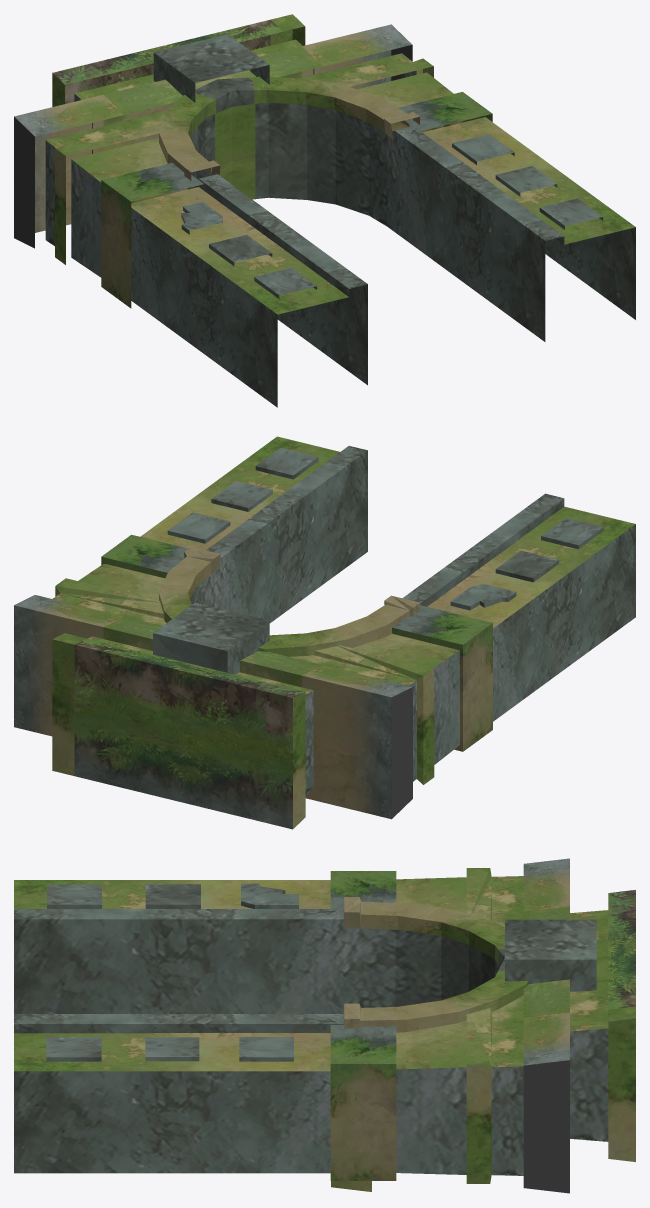
The model's file is shitouyiji_01.FBX.
The picture shows the model from 3 angles, top to bottom: view 1: azimuth 30°, elevation 25°; view 2: azimuth 150°, elevation 25°; view 3: azimuth 270°, elevation 25°; orthographic projection. The views are drawn at different scales.
Parts seen in each view (by area): view 1: shitouyiji_01; view 2: shitouyiji_01; view 3: shitouyiji_01.
Boxes of the visible parts, box(x1,y1,x2,y2) form: shitouyiji_01: box(14, 14, 635, 407); shitouyiji_01: box(14, 436, 635, 829); shitouyiji_01: box(14, 858, 635, 1193).
Size of the model in its own units: 313 by 128 by 408.
